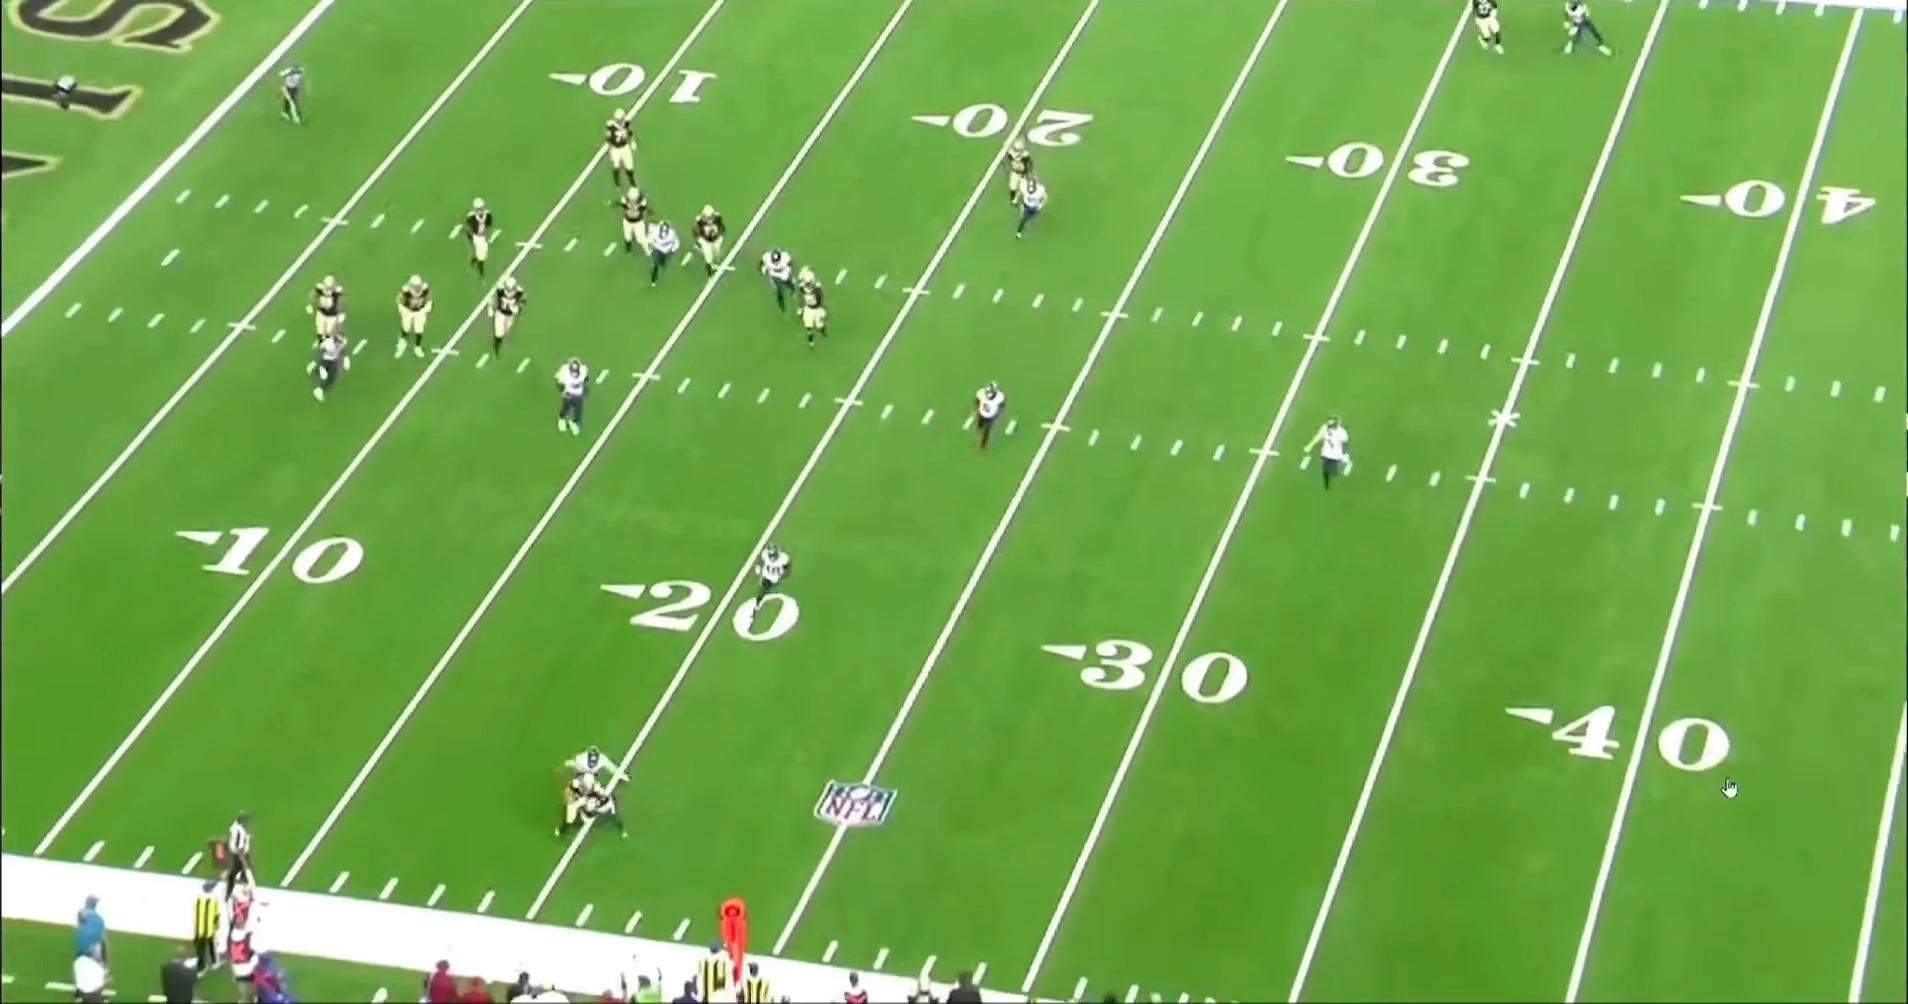player: (562, 743, 629, 813), (490, 277, 538, 362), (386, 269, 429, 359), (686, 204, 738, 278), (757, 247, 806, 320), (599, 109, 641, 194), (460, 195, 502, 280), (1311, 414, 1356, 493), (309, 334, 354, 413), (964, 380, 1011, 455), (612, 186, 661, 256), (743, 541, 794, 608), (803, 266, 843, 351), (545, 357, 585, 441), (1559, 1, 1614, 62), (641, 220, 688, 290), (581, 774, 629, 842), (309, 270, 354, 338), (548, 774, 591, 845), (1012, 170, 1052, 245), (1000, 136, 1033, 219), (1465, 1, 1503, 60)
ref: (210, 811, 263, 901), (278, 58, 309, 131)
